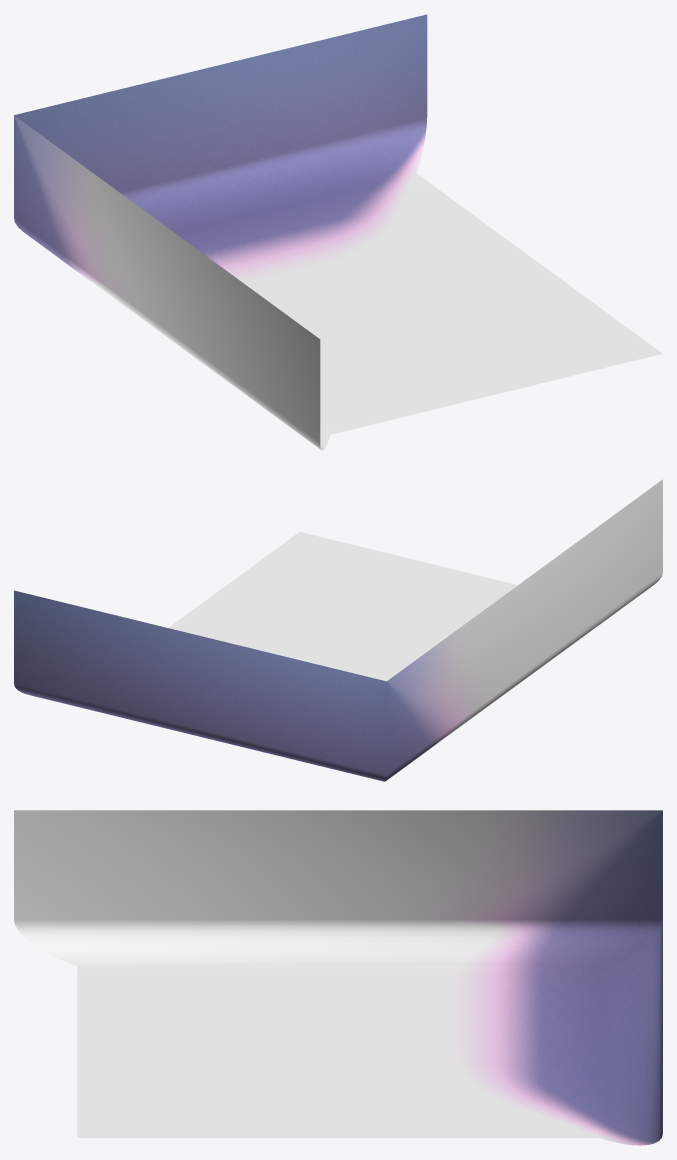
The picture shows the model from 3 angles, top to bottom: view 1: azimuth 30°, elevation 25°; view 2: azimuth 150°, elevation 25°; view 3: azimuth 270°, elevation 25°; orthographic projection. The views are drawn at different scales.
Visible parts, largest first — view 1: Plane.016; view 2: Plane.016; view 3: Plane.016.
Boxes of the visible parts, x1=… form: Plane.016: x1=14, y1=14, x2=662, y2=450; Plane.016: x1=14, y1=479, x2=662, y2=781; Plane.016: x1=14, y1=810, x2=662, y2=1145.
Bounding box in the file's own units: 71.94 × 21.18 × 92.35.
Materials: 1 (1 with a texture image).
